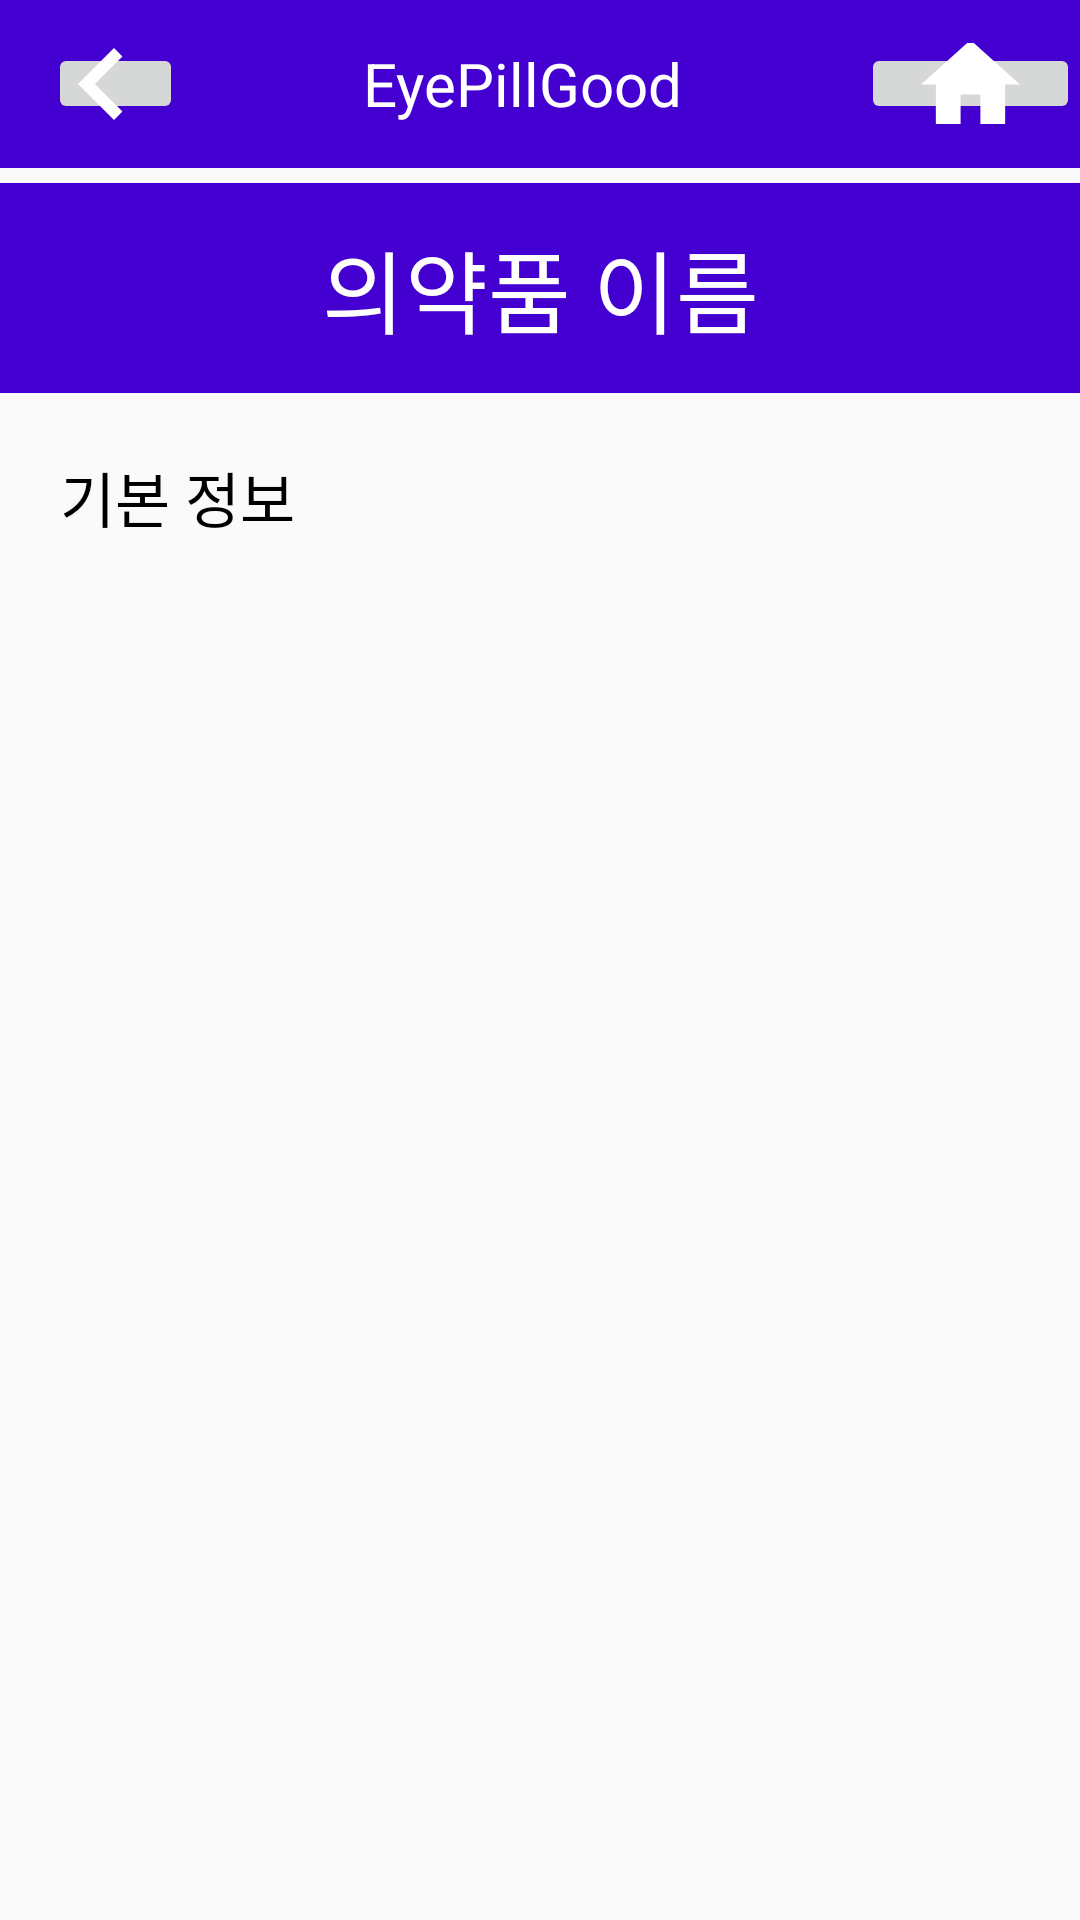

Icon click points for this 1080 x 1920 phone screenshot, format [x,y]:
Go back: [115,84]
Home: [970,83]
